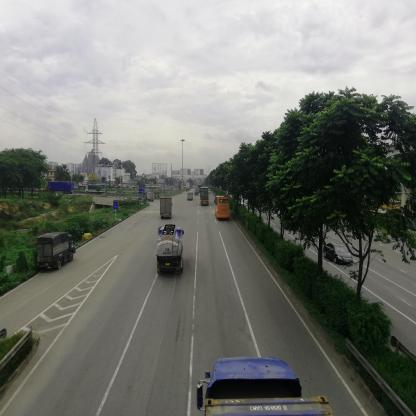bus: (216, 198, 230, 221)
car: (324, 244, 353, 263), (188, 192, 193, 202)
container: (191, 349, 327, 416), (39, 182, 77, 197), (201, 187, 210, 205)
truck: (39, 231, 77, 274), (158, 225, 186, 275), (161, 198, 173, 220)
